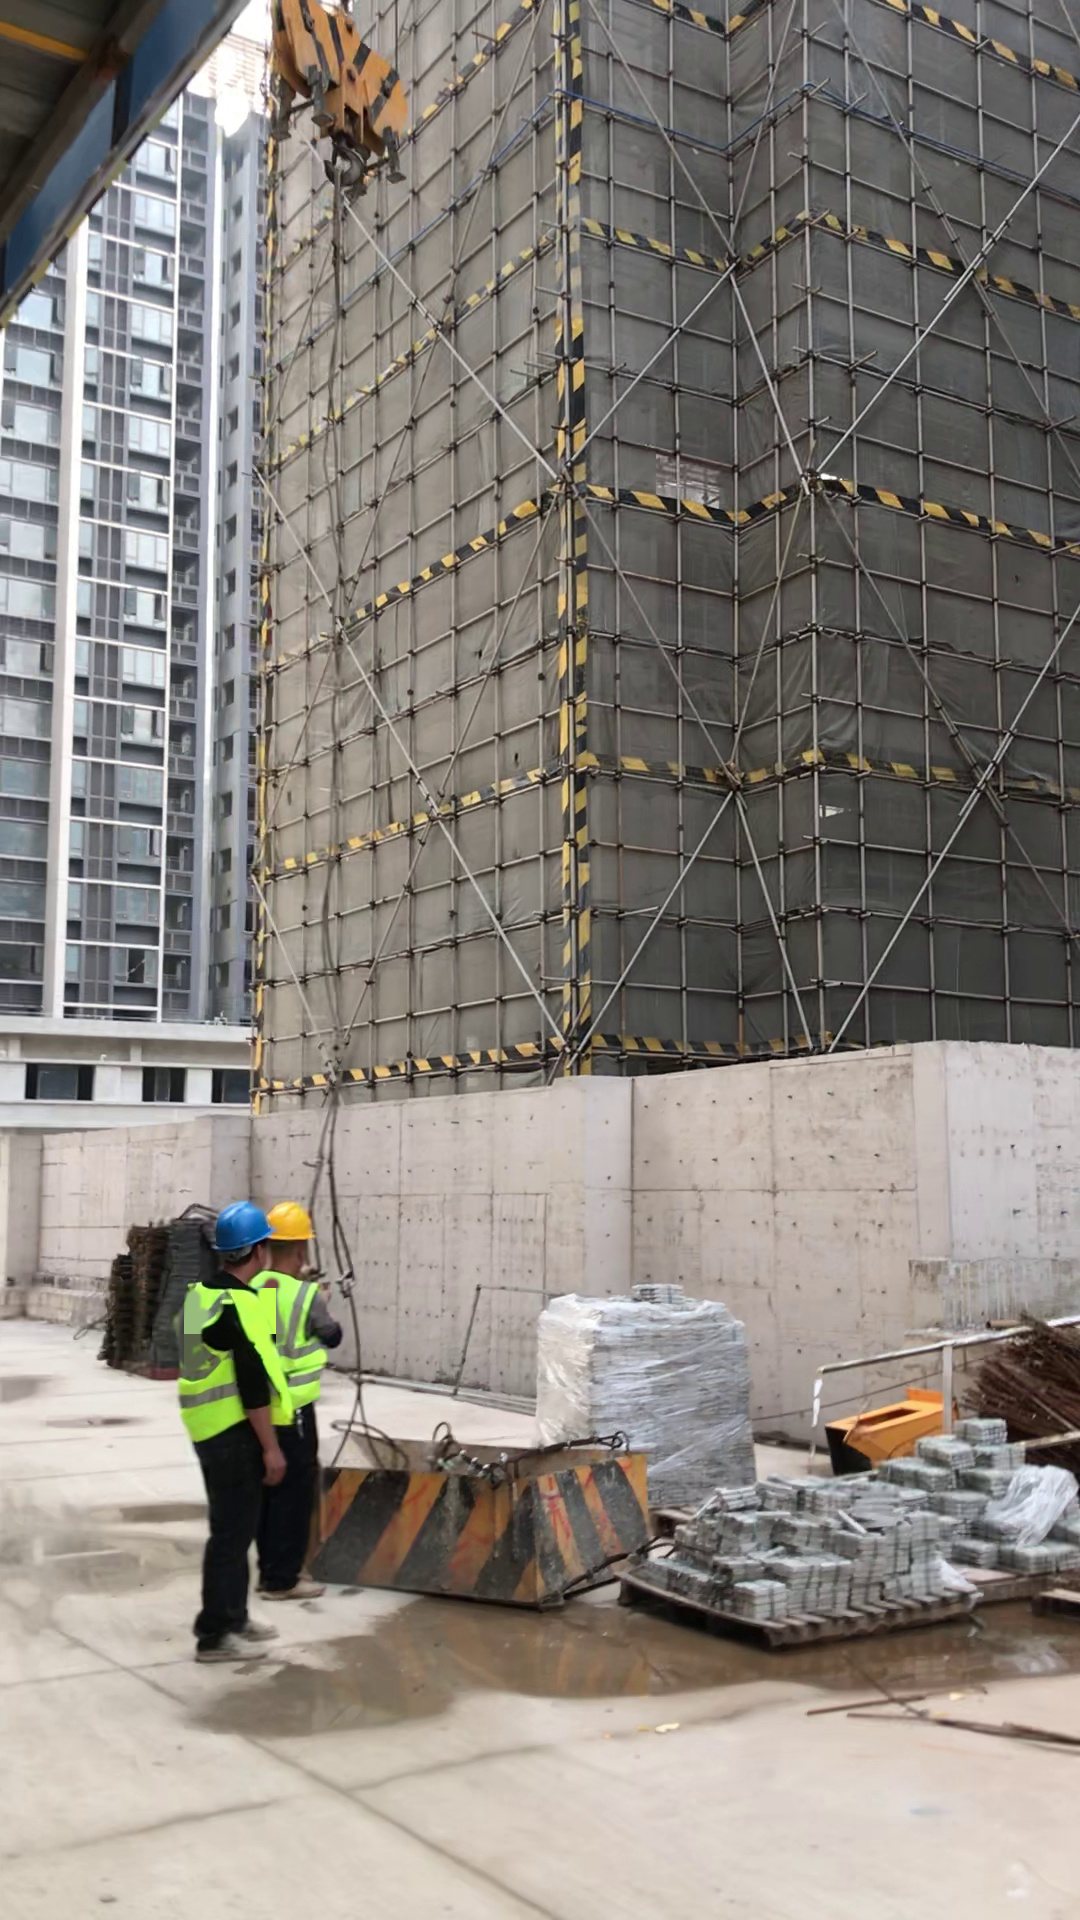helmet: (206, 1200, 277, 1243), (261, 1197, 322, 1242)
hook: (257, 1, 426, 211)
hopper: (314, 1432, 649, 1615)
person: (171, 1196, 284, 1670), (263, 1192, 345, 1604)
vest: (173, 1281, 284, 1436), (253, 1271, 332, 1422)
